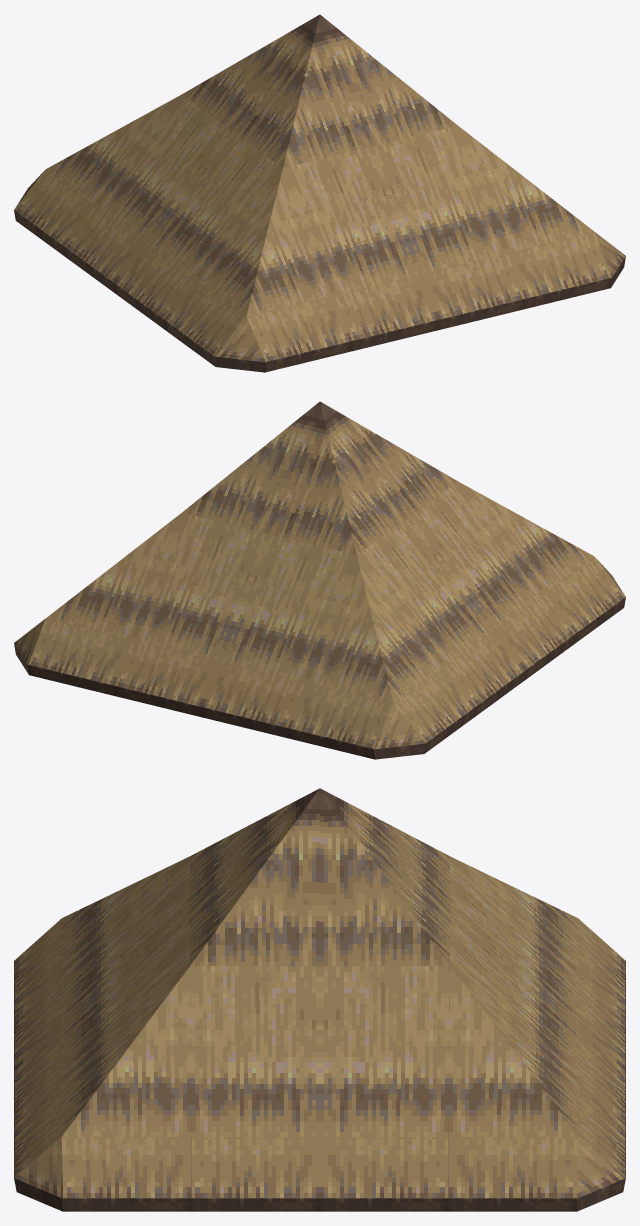
The model's file is roof_straw_square.glb.
3 views of the same model, one above another, from view 1: azimuth 30°, elevation 25°; view 2: azimuth 150°, elevation 25°; view 3: azimuth 270°, elevation 25° (orthographic). The views are drawn at different scales.
Visible parts, largest first — view 1: roof_straw_square; view 2: roof_straw_square; view 3: roof_straw_square.
Part boxes in pixels (x1,y1,x2,y2): roof_straw_square: (14, 14, 625, 372); roof_straw_square: (14, 401, 625, 759); roof_straw_square: (14, 788, 625, 1211).
Bounding box in the file's own units: 5.96 × 3.17 × 5.96.
Materials: 1 (1 with a texture image).
